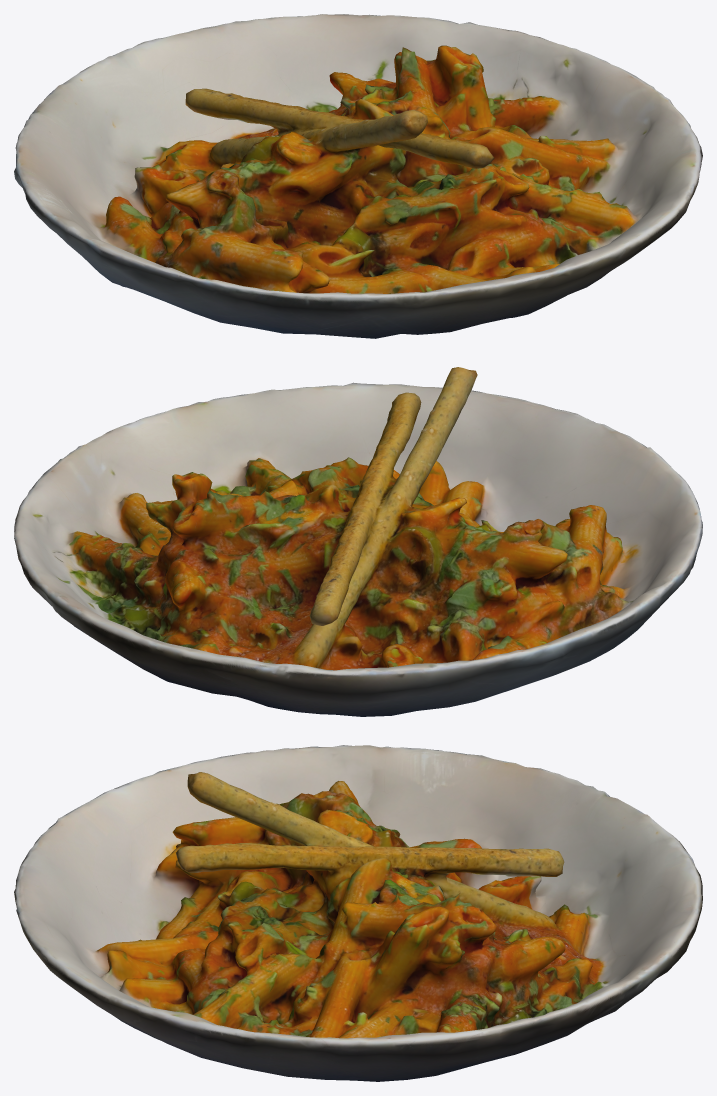
Rendered from pennaArabita_1752072019113.glb.
The picture shows the model from 3 angles, top to bottom: view 1: azimuth 30°, elevation 25°; view 2: azimuth 150°, elevation 25°; view 3: azimuth 270°, elevation 25°; orthographic projection.
Visible parts, largest first — view 1: 3DModel_Custom; view 2: 3DModel_Custom; view 3: 3DModel_Custom.
Boxes of the visible parts, x1=… form: 3DModel_Custom: x1=14, y1=14, x2=702, y2=338; 3DModel_Custom: x1=14, y1=367, x2=702, y2=716; 3DModel_Custom: x1=14, y1=745, x2=702, y2=1081.
Size of the model in its own units: 0.2371 by 0.0886 by 0.2373.
1 material, 1 textured.
